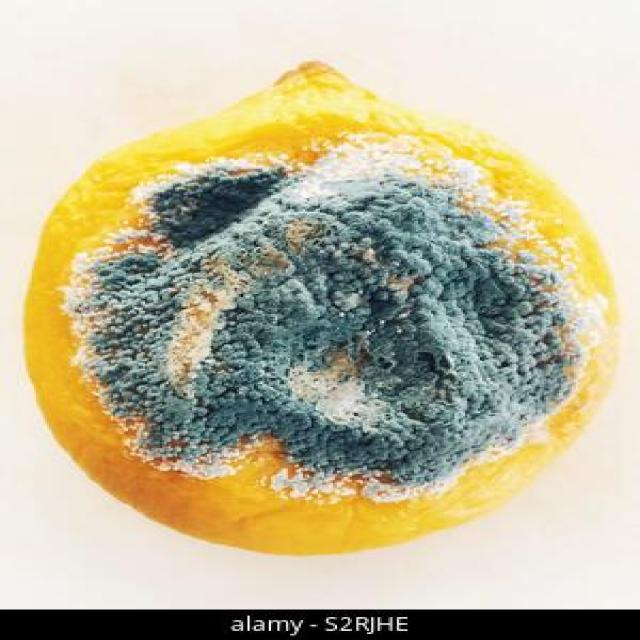Rotten: (22, 59, 628, 558)
